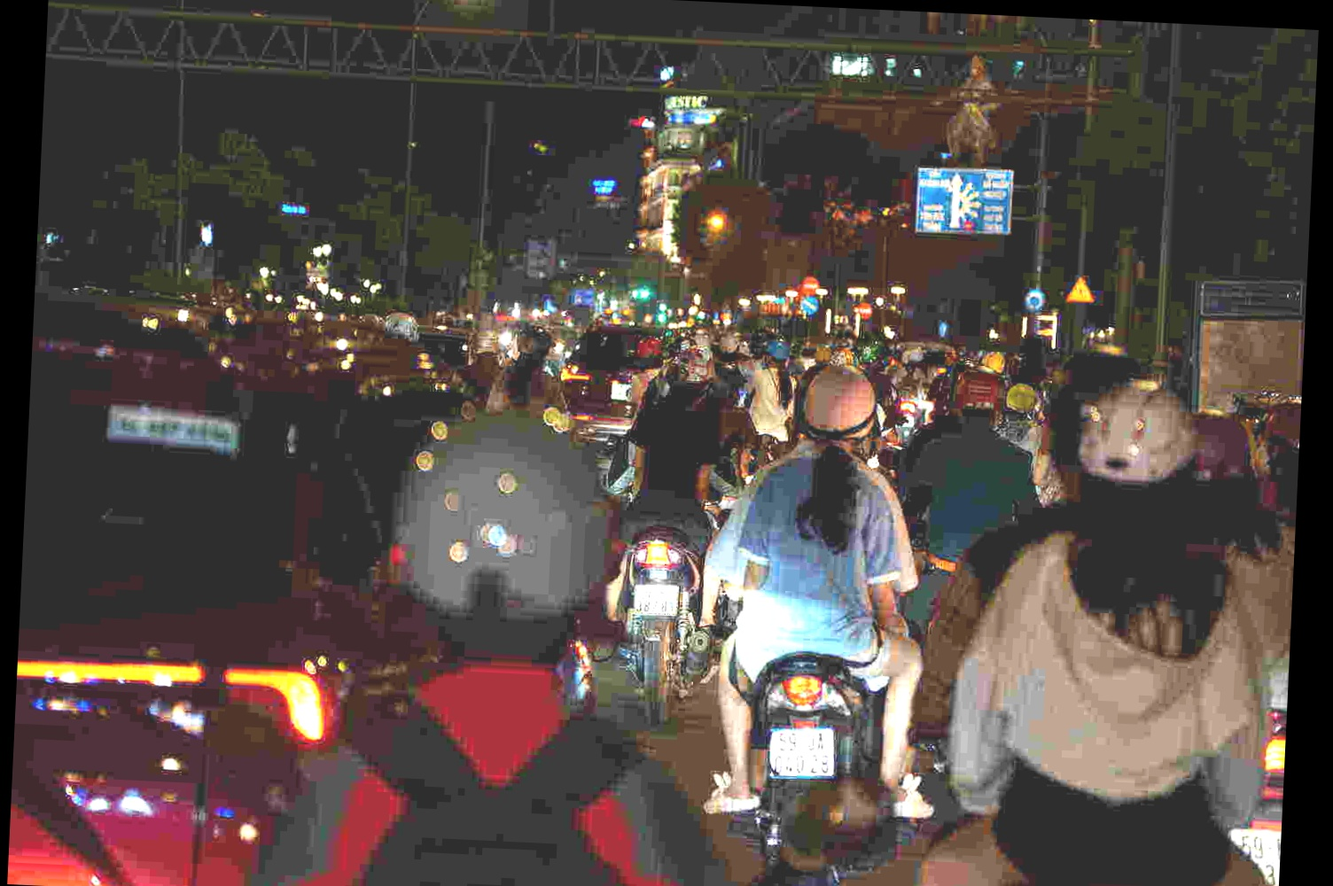Bien-so: (768, 726, 837, 779), (1230, 826, 1281, 886), (633, 582, 679, 626)
